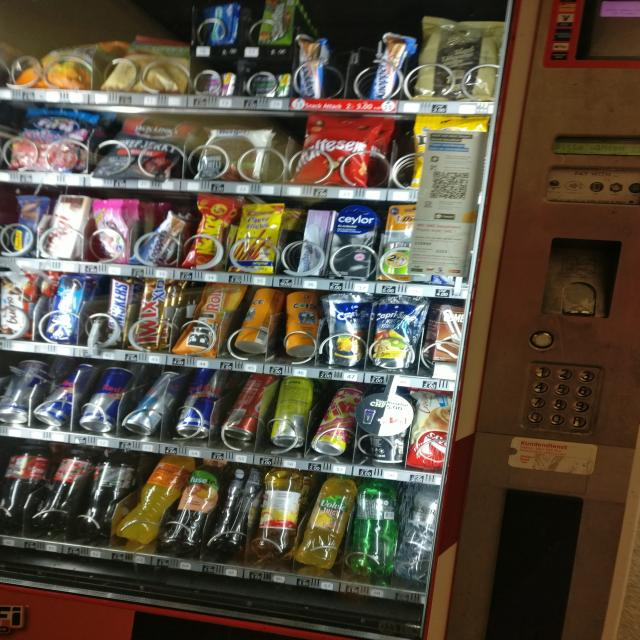7days_croissantschoko_packung_80_1_0000000000003: (408, 388, 455, 469)
airwaves_menthoneucalyptus_riegel_14_1_50173167: (205, 3, 239, 43)
bifi_roll__50__4251097402635: (185, 279, 233, 356)
bueno___43__4008400320328: (0, 270, 40, 338)
c-swiss_dosenabisicetea__33__9120025930135: (236, 287, 286, 356), (283, 287, 325, 362)
caferoyal_classicmacchiato__33__7617014164487: (362, 393, 410, 464)
caprisun_multivitamin__20__4000177605004: (373, 293, 427, 375), (327, 290, 371, 367)
coke__dose_33__54491472: (228, 371, 274, 442)
coke__flasche_50__54491472: (38, 444, 96, 528), (0, 436, 50, 520), (92, 448, 131, 536)
fanta___50__40822938: (119, 453, 193, 542)
fini_galaxymix_packung_100_1_8410525150364: (9, 103, 90, 172)
fini_jellykisses_packung_80_1_8410525116704: (93, 199, 131, 260)
fuse_lemon__50__5449000235947: (208, 465, 256, 561)
fuse_lemon_dose_33__5449000235947: (272, 375, 315, 445)
fuse_peach__50__5449000236623: (170, 457, 223, 551)
jacklinks_beefjerkyorginal__25__4047751730219: (100, 109, 186, 181)
jlbrichard_gauffre__90__5410495002000: (422, 19, 498, 100)
kagi___50__7610046000259: (49, 192, 86, 260)
knoppers_riegel____4035800488808: (367, 28, 415, 102), (138, 210, 184, 264), (294, 34, 327, 100)
lorenz_nicnacs__40__4018077798818: (190, 194, 232, 273)
malburner_partysticks__40__7610200279682: (236, 202, 279, 273)
maltesers___100__5000159023061: (304, 112, 377, 186)
oreo___66__84100733: (41, 272, 90, 339)
powerbar_proteinplusschoko__55__4029679520028: (14, 193, 48, 256)
ramseier_schorle__50__7610057012456: (257, 468, 301, 557)
redbull___33__90162909: (78, 368, 138, 431), (32, 362, 93, 422), (177, 368, 226, 433), (127, 366, 174, 433)
skittles_sour_riegel_51_1_0000000000004: (258, 0, 294, 39)
snickers___50__5000159461122: (100, 272, 136, 350)
stimorol_spearmint_riegel_14_1_0000000000005: (243, 70, 291, 96)
stimorol_wildcherry_riegel_14_1_57060330: (198, 71, 235, 95)
tiki_himbeer_brause__50__00000000009342: (311, 386, 360, 455)
twix___50__5000159459228: (138, 273, 170, 353)
valser_classic__50__76404160: (347, 482, 397, 578)
valser_still__50__7610335002575: (395, 488, 436, 582)
volvic_pinapple__50__305764335648: (302, 469, 354, 573)
zweifel_graneochilli__100__7610095184009: (108, 29, 190, 94)
zweifel_paprika__90__7610095013002: (22, 35, 113, 90)
